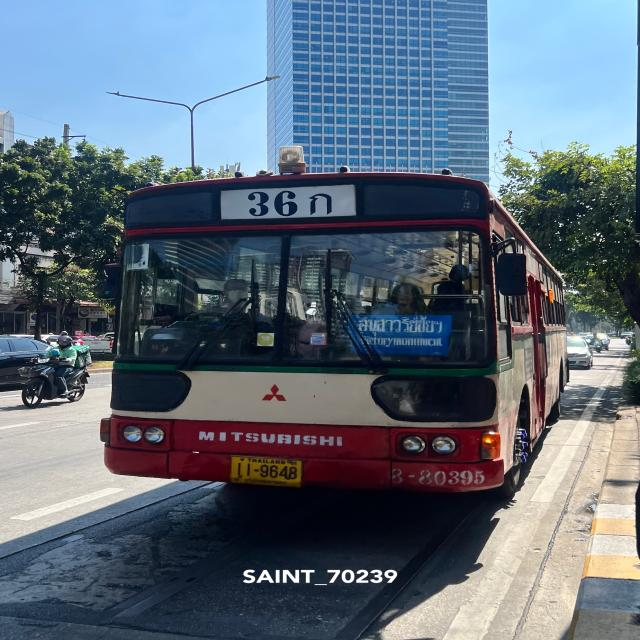BMTA-bus: (100, 170, 569, 497)
Bus Line Number: (222, 181, 352, 220)
Bus Side Number: (384, 463, 488, 492)
Destination Sign: (350, 314, 450, 357)
